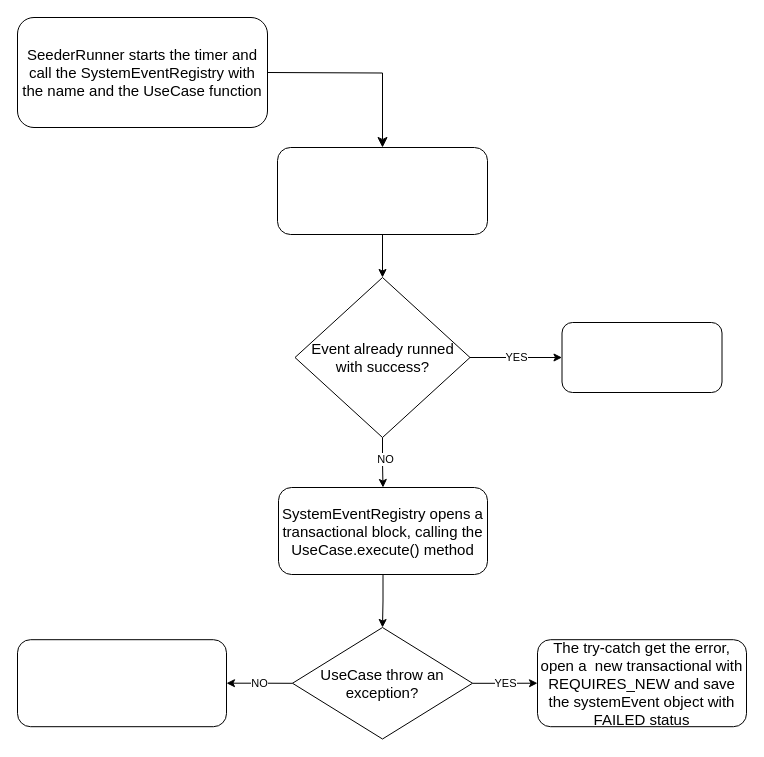
This 764x757 diagram has some shape labels left out. The shapes that lost their labels are listed below. From the top down, each one's box as (x1, y1, x2, y2) in pixels, then its label:
(276, 146, 488, 234): SystemEventRegistry checks the database to avoid rerun the seeder
(561, 322, 722, 392): Return to the runner
(16, 639, 226, 727): Build a systemEvent object with status SUCCESS and save in database
